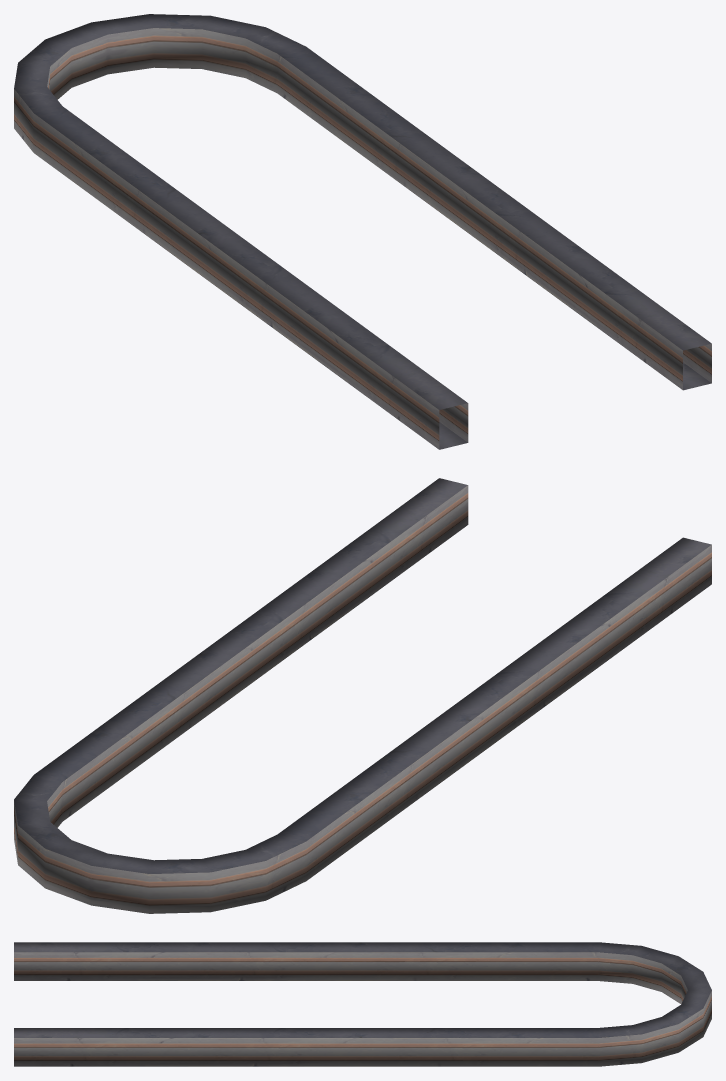
File: Recruit_Other_03.FBX
3 renders of one model, top to bottom at view 1: azimuth 30°, elevation 25°; view 2: azimuth 150°, elevation 25°; view 3: azimuth 270°, elevation 25°, orthographic. The views are drawn at different scales.
Parts seen in each view (by area): view 1: Recruit_Other_03; view 2: Recruit_Other_03; view 3: Recruit_Other_03.
Part boxes in pixels (bbox=[...]): Recruit_Other_03: bbox=[14, 14, 711, 449]; Recruit_Other_03: bbox=[14, 478, 711, 913]; Recruit_Other_03: bbox=[14, 942, 711, 1066].
Bounding box in the file's own units: 11.55 × 1.61 × 35.53.
